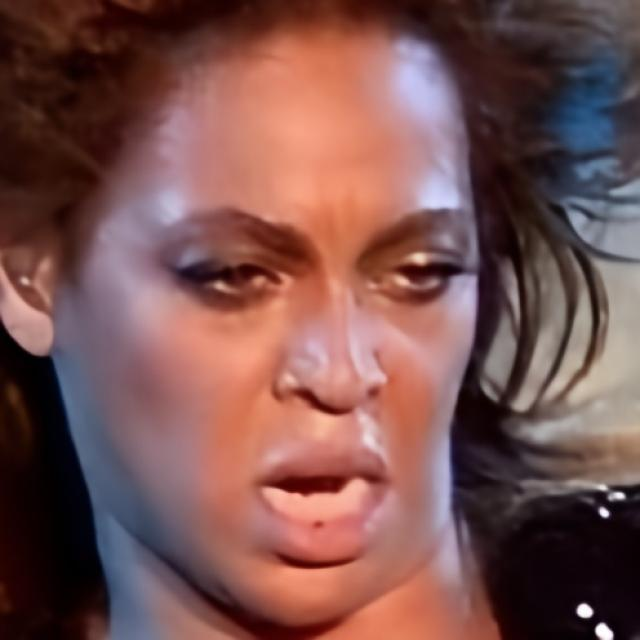disgust: (53, 21, 480, 626)
